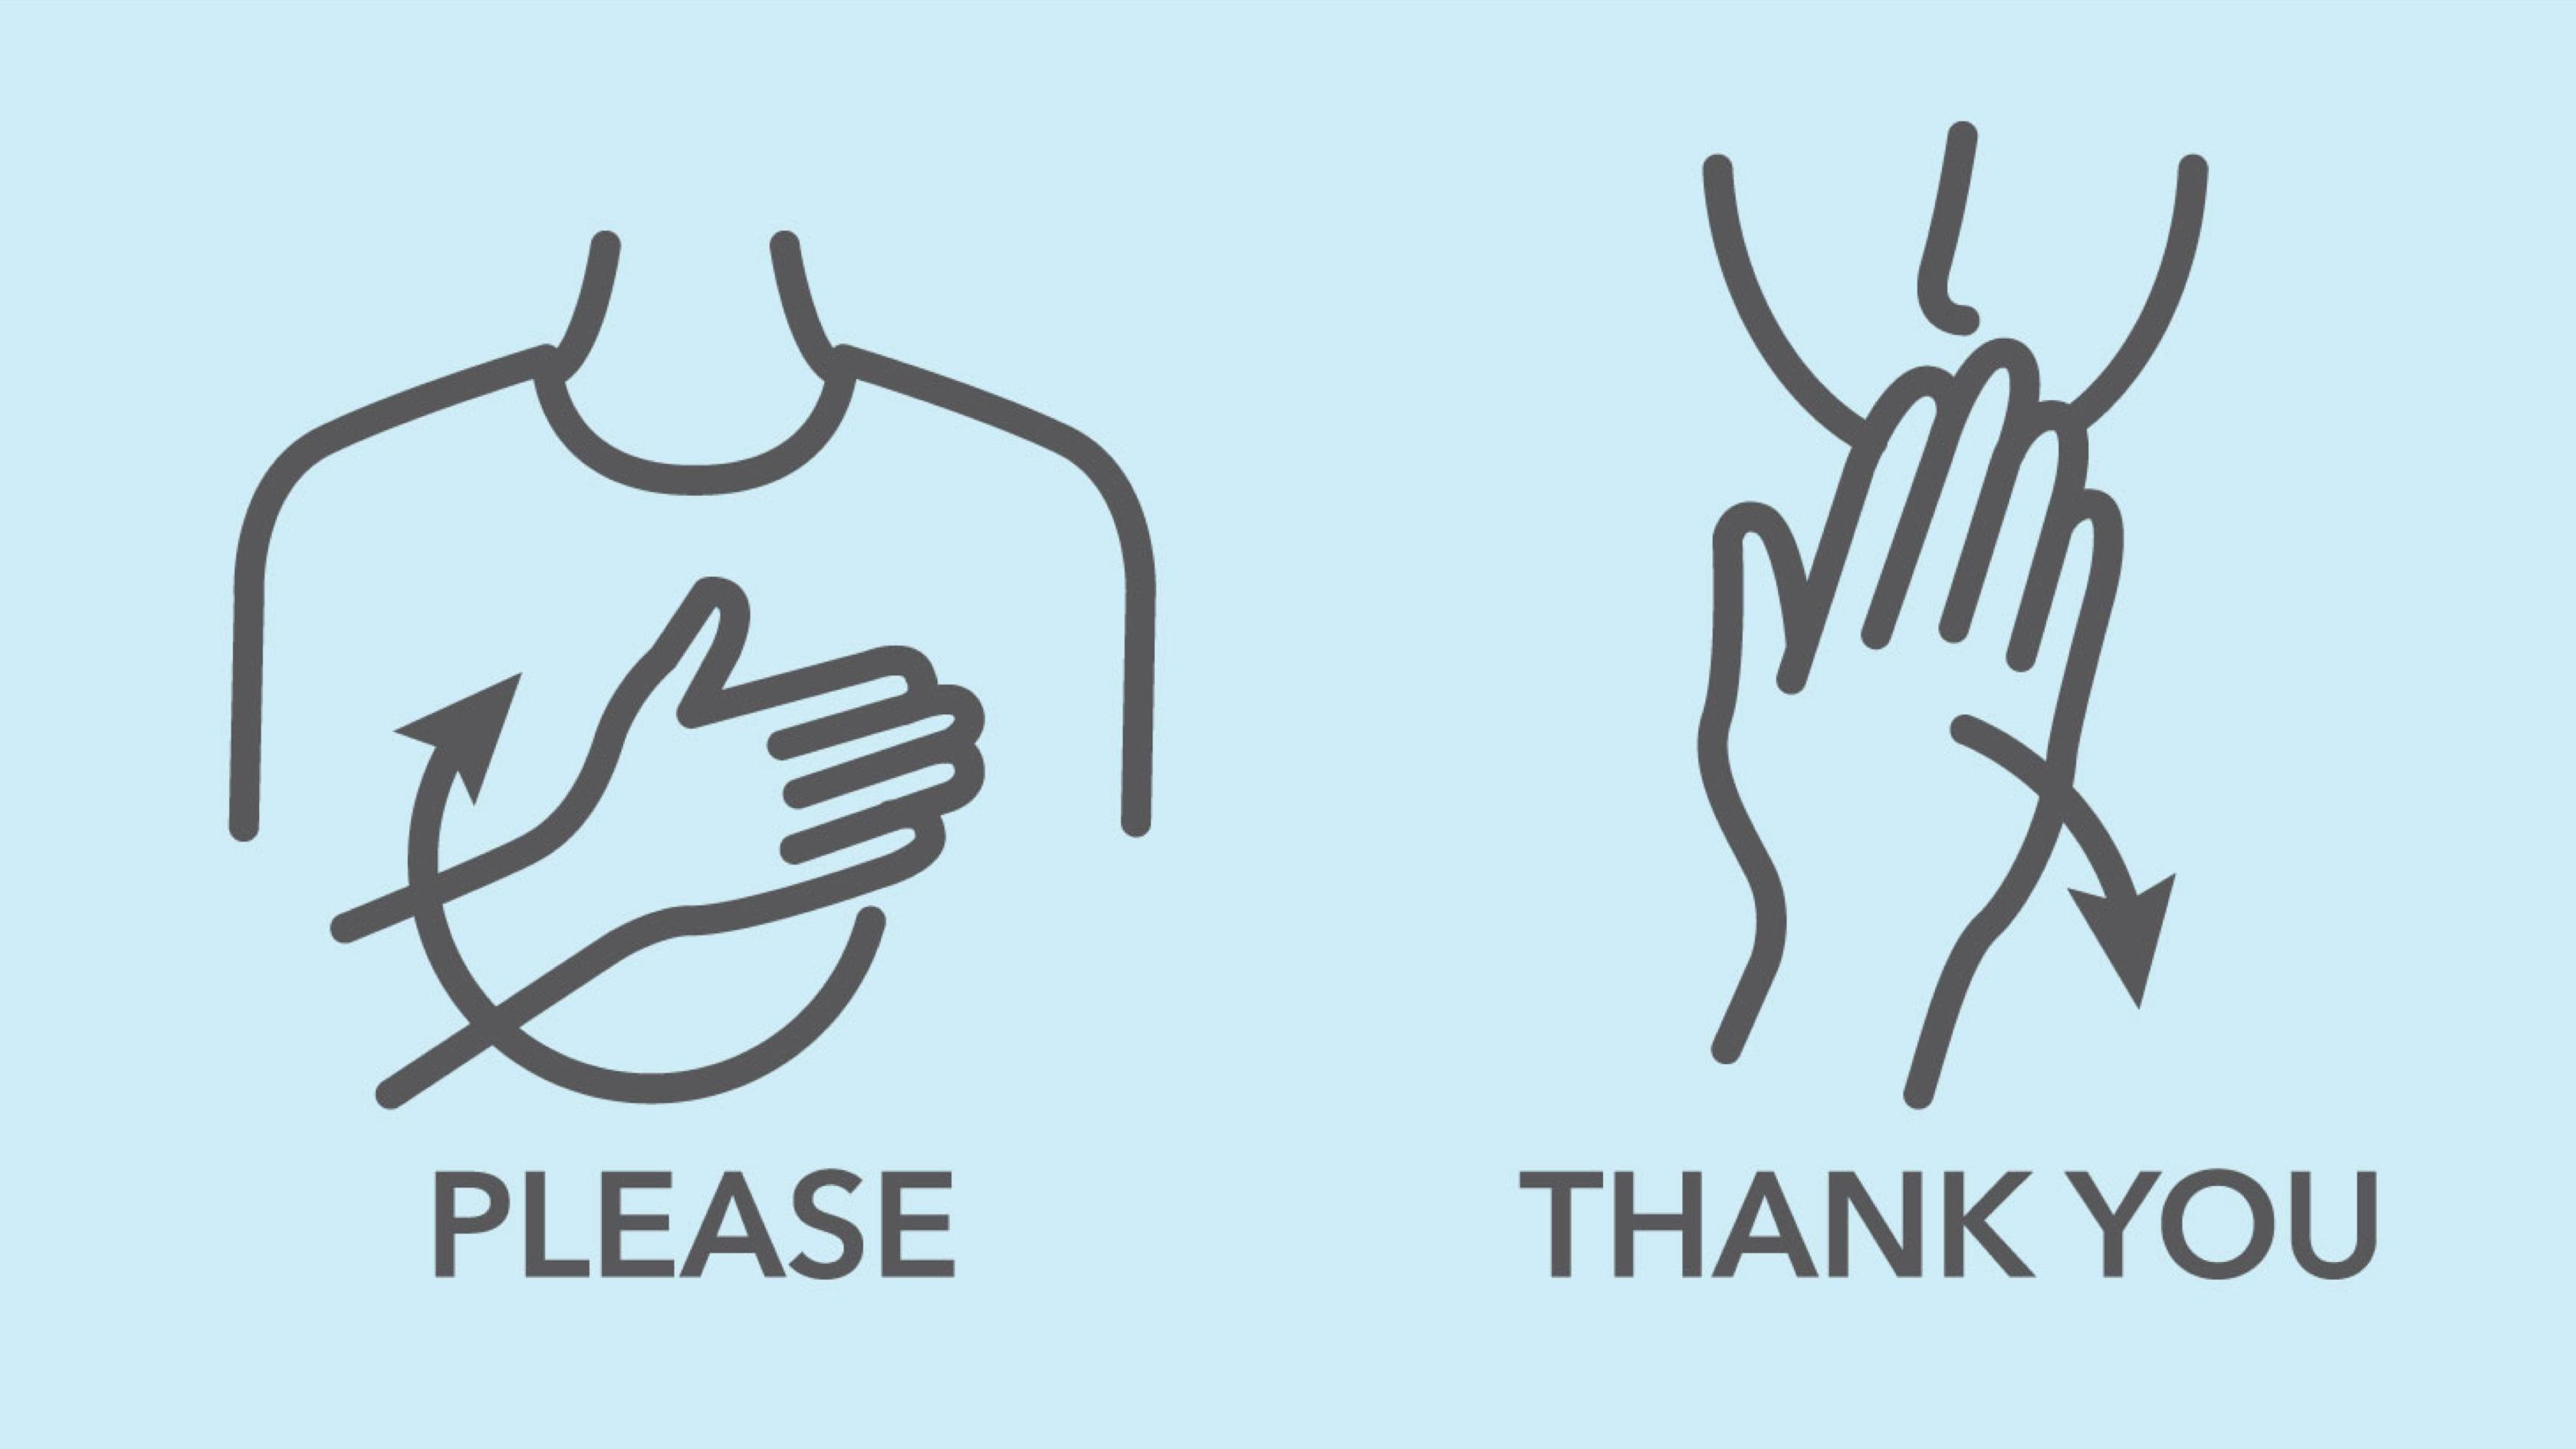Thankyou: (1576, 333, 2231, 1139)
